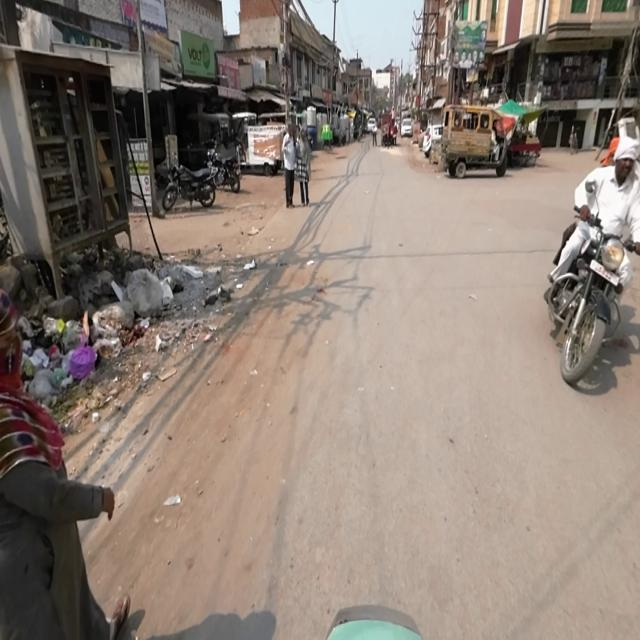Garbage: (36, 316, 98, 392)
